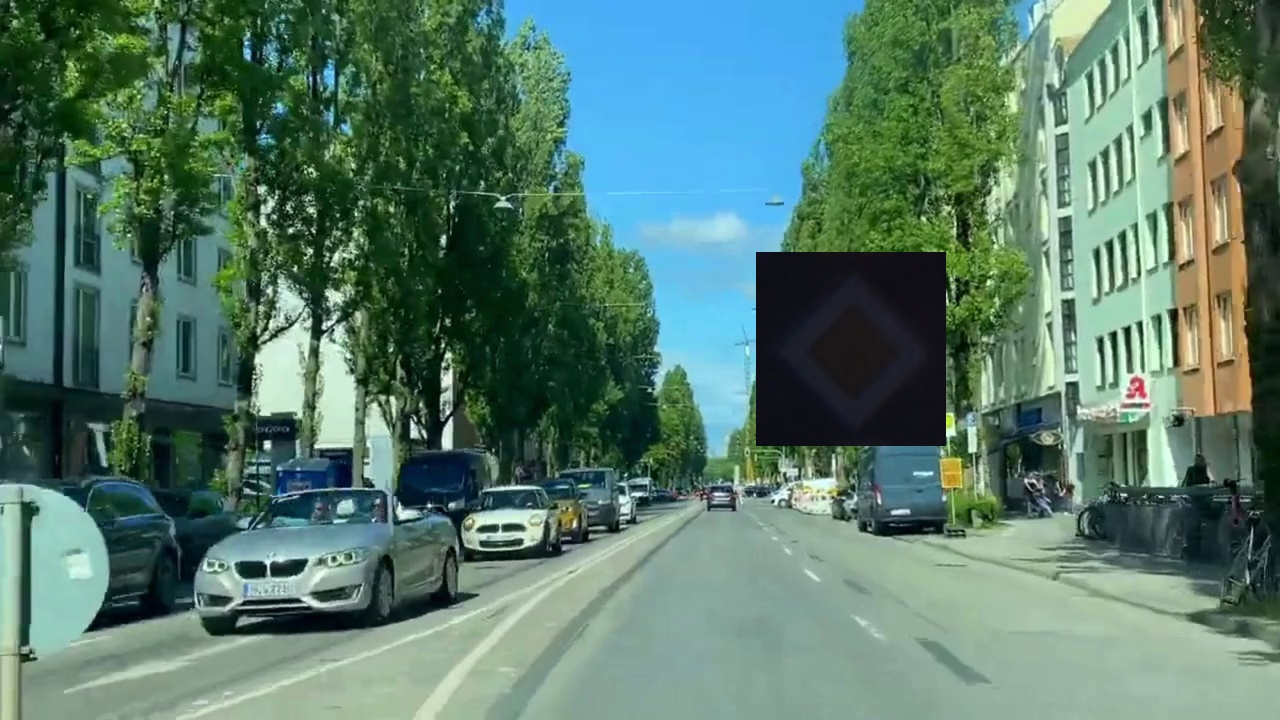Priority road: (756, 252, 946, 446)
